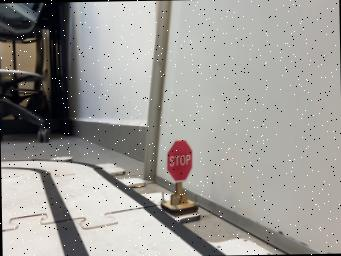stop: (161, 139, 198, 215), (161, 139, 198, 215), (161, 139, 198, 215)
street: (1, 159, 225, 256), (1, 159, 225, 256), (1, 159, 225, 256)
